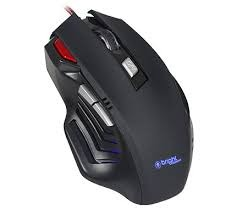mouse: (42, 10, 197, 205)
